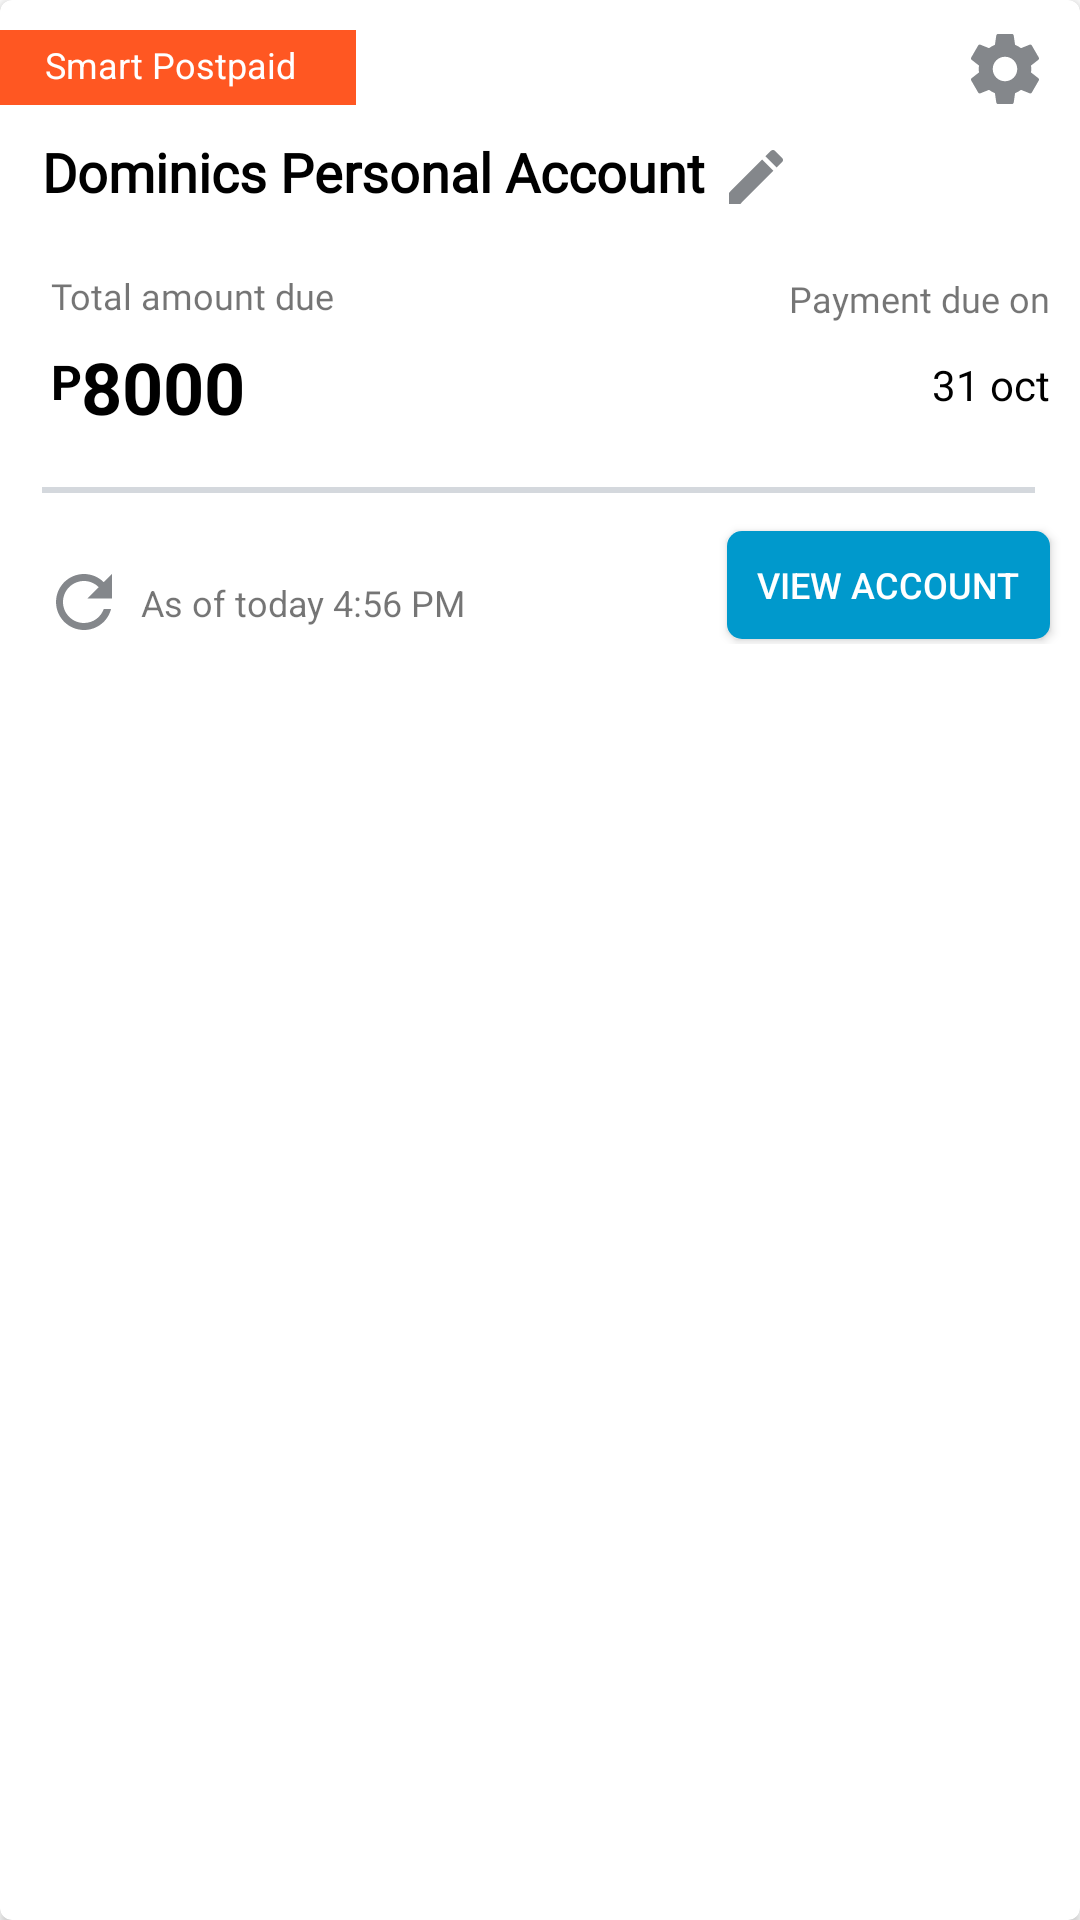

Locate icon controls on the screen. Image size 1080 x 1920, boxes as {"x1": x1, "y1": y1, "x2": x2, "y2": y2}.
edit: {"x1": 729, "y1": 150, "x2": 783, "y2": 204}
refresh: {"x1": 56, "y1": 574, "x2": 112, "y2": 630}
settings: {"x1": 971, "y1": 34, "x2": 1039, "y2": 104}
